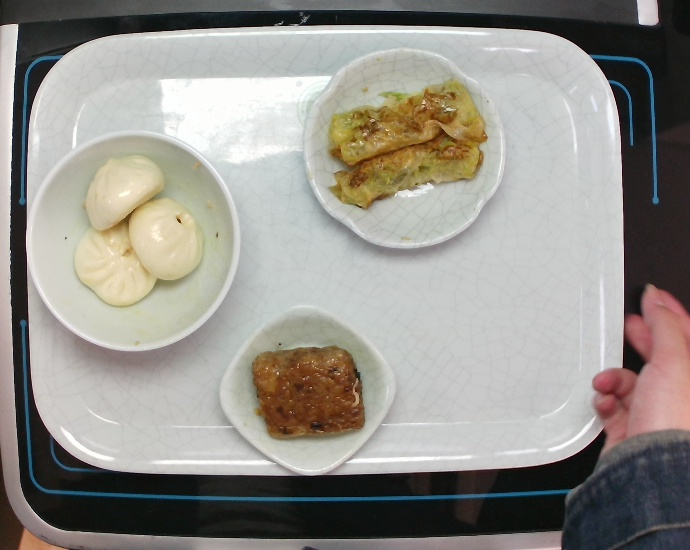JYsf-Ao_Yuan_Wan: (299, 44, 511, 254)
JYsf-Fan_Wan: (21, 126, 244, 355)
JYsf-Si_Fang_Die: (215, 301, 400, 480)
